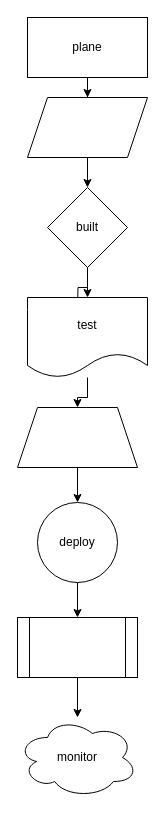
This 165x815 diagram has some shape labels left out. The box of each missing label's shape, as (x1, y1, x2, y2) in pixels:
code: (26, 96, 148, 158)
operate: (16, 616, 138, 678)
release: (16, 406, 138, 468)
